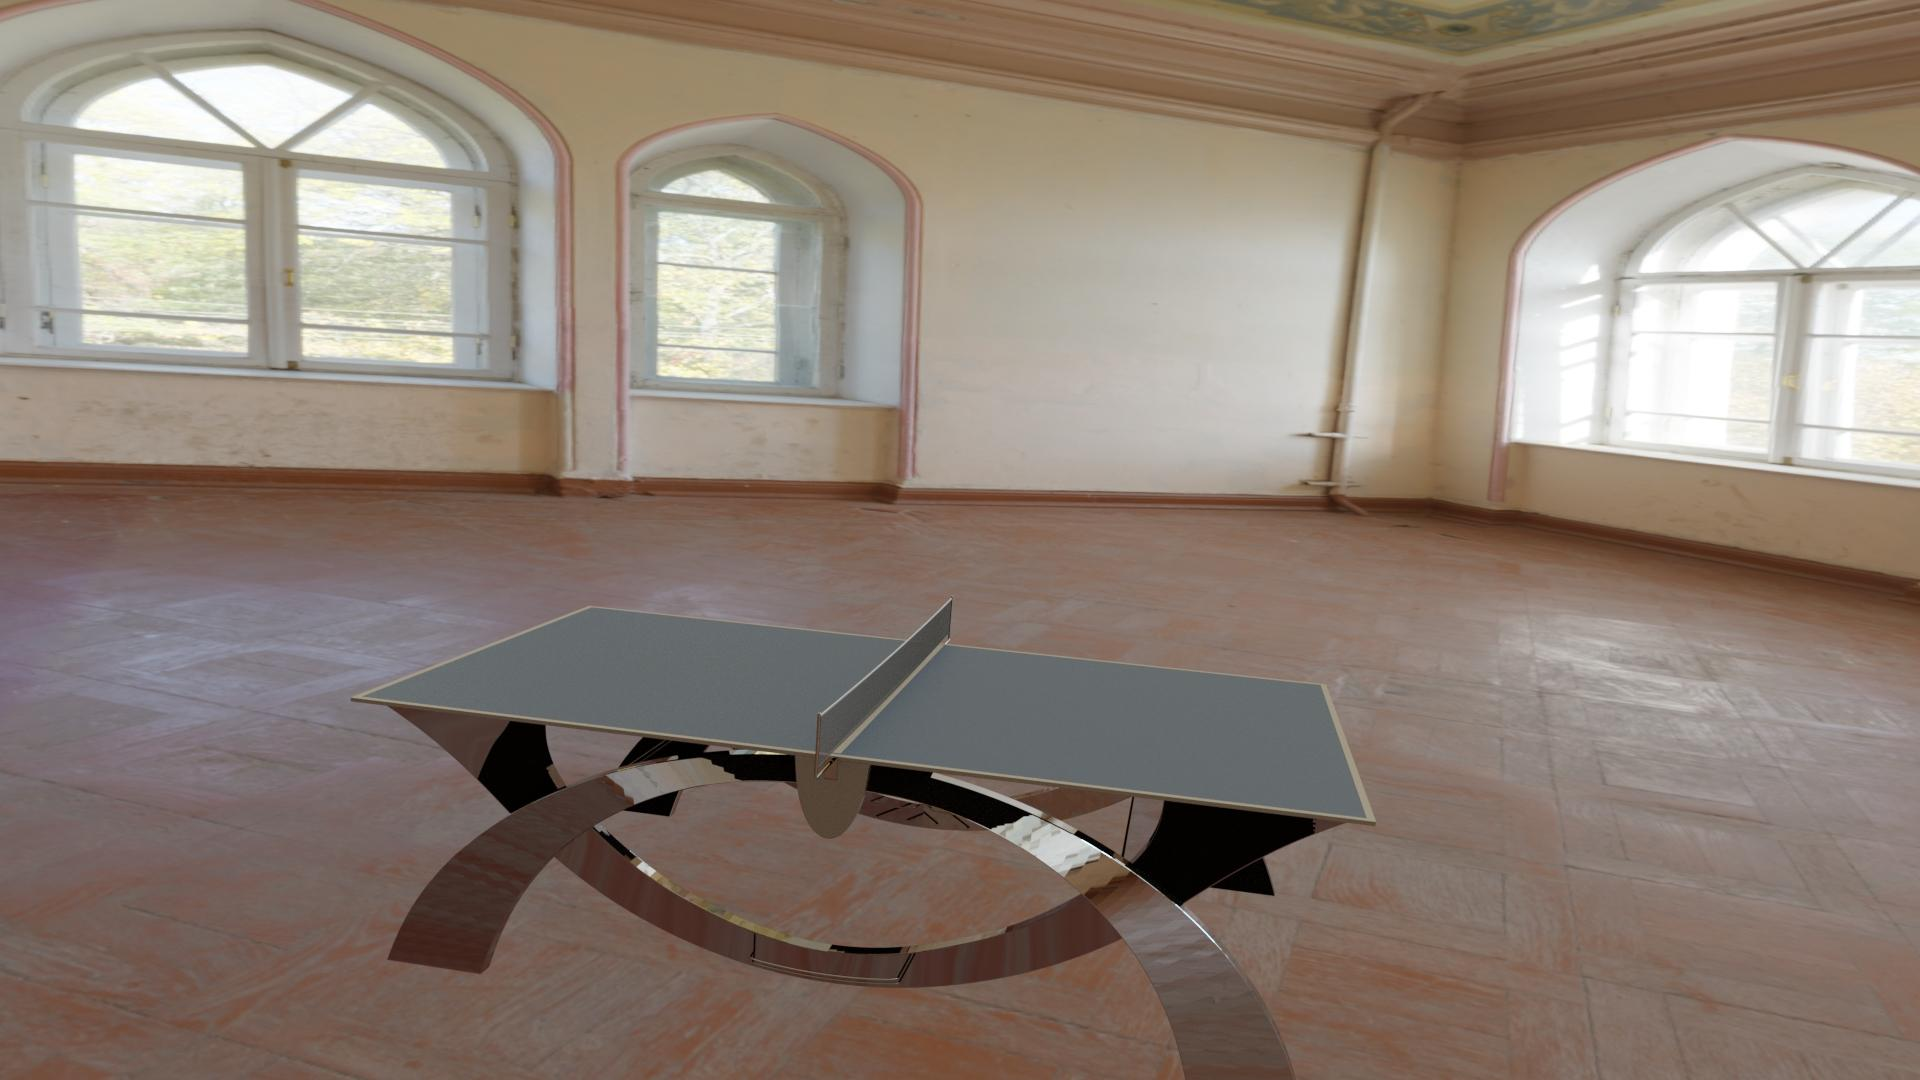table: (361, 607, 1366, 819)
